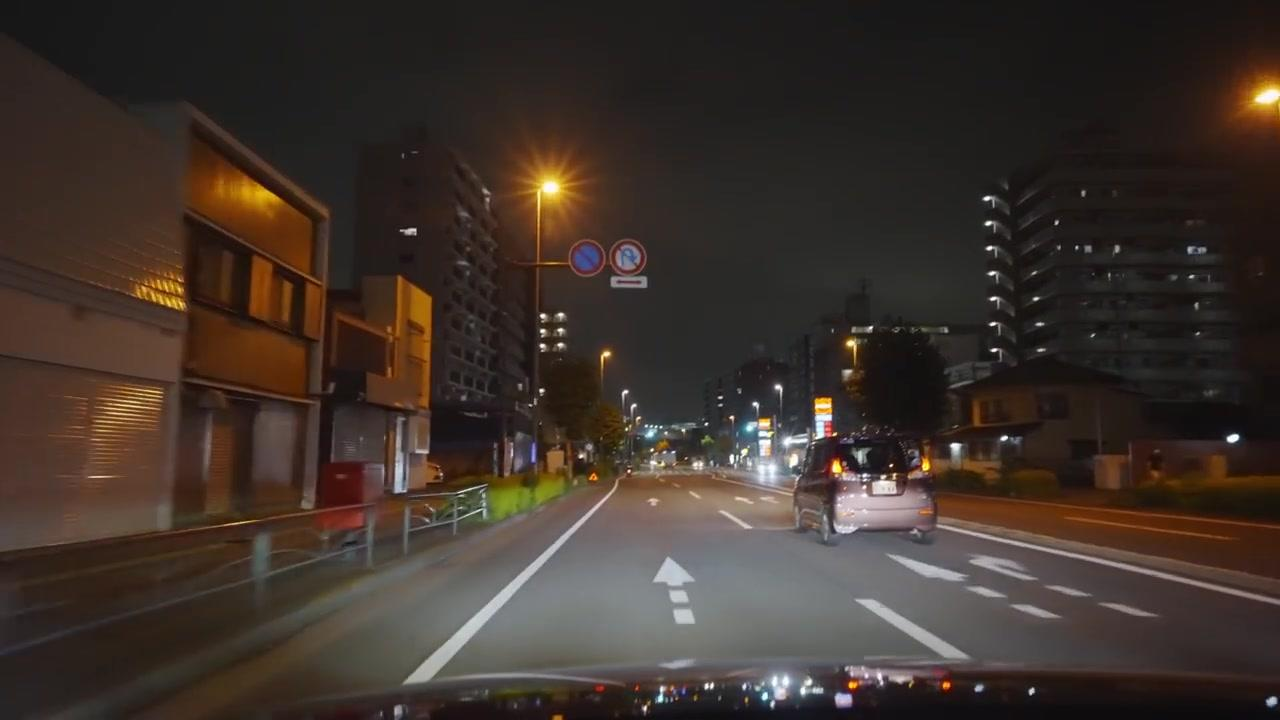bench: (408, 484, 490, 532)
car: (790, 436, 939, 546)
traffic light: (716, 391, 725, 411)
